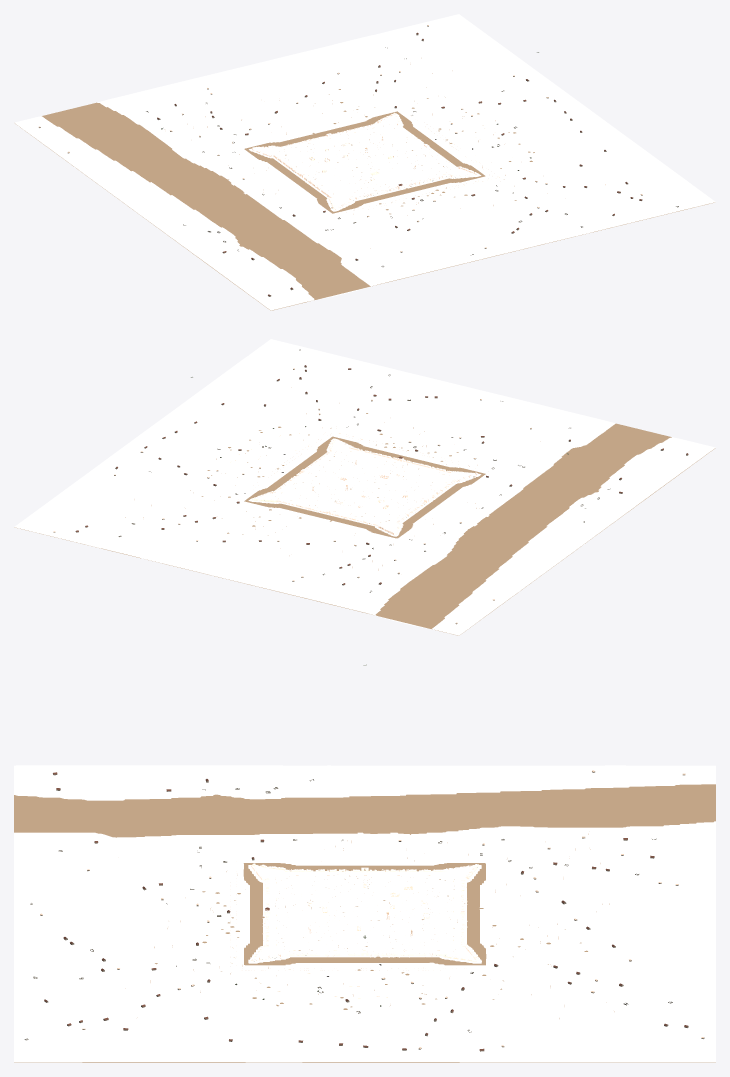
The model's file is static.glb.
The picture shows the model from 3 angles, top to bottom: view 1: azimuth 30°, elevation 25°; view 2: azimuth 150°, elevation 25°; view 3: azimuth 270°, elevation 25°; orthographic projection. The views are drawn at different scales.
Visible parts, largest first — view 1: DiaHinh_ChienTruong, MatNuoc_Song_Hao, HoBom_VienDat_GD5, TuongThanh_Vo_GD4, NhaDan_1972; view 2: DiaHinh_ChienTruong, MatNuoc_Song_Hao, HoBom_VienDat_GD5, TuongThanh_Vo_GD4, NhaDan_1972; view 3: DiaHinh_ChienTruong, MatNuoc_Song_Hao, HoBom_VienDat_GD5, TuongThanh_Vo_GD4, NhaDan_1972.
Boxes of the visible parts, left/top/right/bottom form: DiaHinh_ChienTruong: left=14, top=14, right=715, bottom=310; MatNuoc_Song_Hao: left=15, top=89, right=714, bottom=310; HoBom_VienDat_GD5: left=281, top=87, right=539, bottom=215; TuongThanh_Vo_GD4: left=252, top=112, right=477, bottom=209; NhaDan_1972: left=38, top=25, right=678, bottom=296; DiaHinh_ChienTruong: left=14, top=339, right=715, bottom=635; MatNuoc_Song_Hao: left=14, top=413, right=715, bottom=635; HoBom_VienDat_GD5: left=186, top=411, right=461, bottom=536; TuongThanh_Vo_GD4: left=252, top=438, right=477, bottom=534; NhaDan_1972: left=53, top=349, right=688, bottom=624; DiaHinh_ChienTruong: left=14, top=765, right=715, bottom=1062; MatNuoc_Song_Hao: left=14, top=784, right=715, bottom=1062; HoBom_VienDat_GD5: left=150, top=873, right=592, bottom=1011; TuongThanh_Vo_GD4: left=251, top=863, right=478, bottom=961; NhaDan_1972: left=24, top=770, right=704, bottom=1051.
Size of what is drawn, in the model's own units: 1800 by 331 by 1800.
